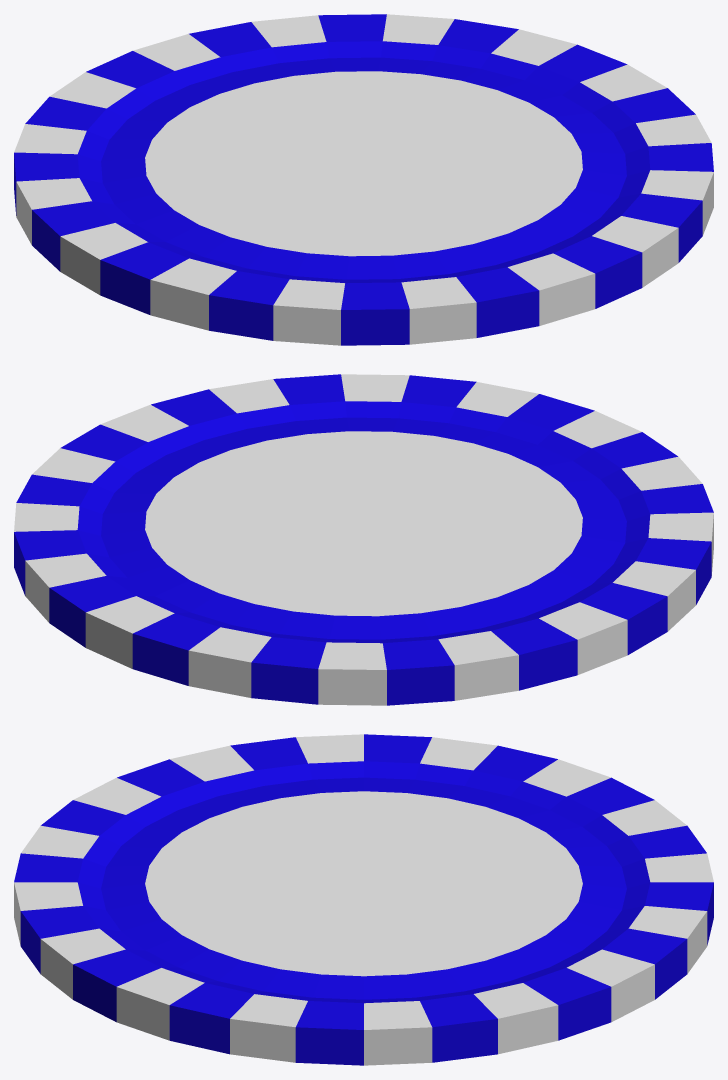
The model's file is BlueCoin.fbx.
The picture shows the model from 3 angles, top to bottom: view 1: azimuth 30°, elevation 25°; view 2: azimuth 150°, elevation 25°; view 3: azimuth 270°, elevation 25°; orthographic projection.
Visible parts, largest first — view 1: Cylinder; view 2: Cylinder; view 3: Cylinder.
Boxes of the visible parts, <box> form: Cylinder: <box>14,14,713,345</box>; Cylinder: <box>14,374,713,705</box>; Cylinder: <box>14,734,713,1065</box>.
Bounding box in the file's own units: 100 × 5.6 × 100.
